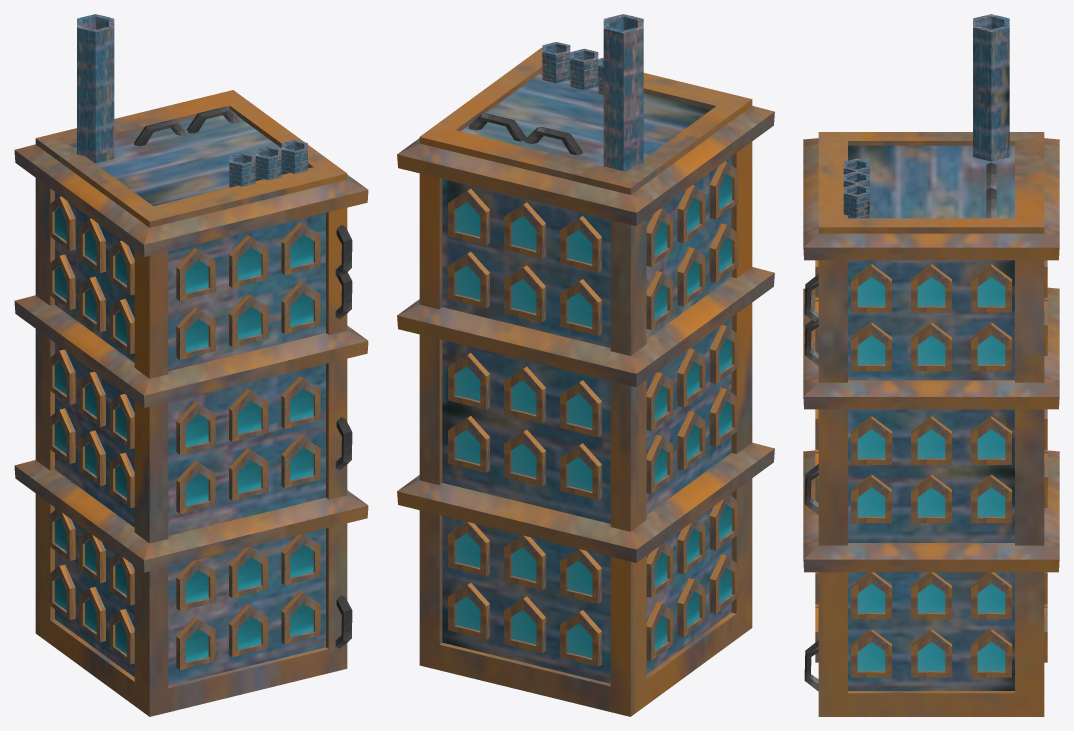
File: buildvar3.fbx
3 views of the same model, side by side, from view 1: azimuth 30°, elevation 25°; view 2: azimuth 150°, elevation 25°; view 3: azimuth 270°, elevation 25° (orthographic). The views are drawn at different scales.
Parts seen in each view (by area): view 1: pCube1, pCylinder13, pCylinder12, pCylinder20, pCylinder19, pCylinder18, pCylinder15, pCylinder16, pCylinder17, pCylinder14, pTorus6, pTorus5 (+3 smaller); view 2: pCube1, pCylinder13, pCylinder12, pCylinder19, pCylinder20, pCylinder18, pCylinder15, pCylinder14, pCylinder16, pTorus2, pTorus1; view 3: pCube1, pCylinder12, pCylinder18, pCylinder20, pCylinder19, pCylinder15, pCylinder13, pCylinder14, pTorus6, pTorus5.
Part boxes in pixels (x1,y1,x2,y2): pCube1: [35, 90, 347, 716]; pCylinder13: [176, 222, 320, 669]; pCylinder12: [49, 196, 134, 664]; pCylinder20: [14, 460, 368, 572]; pCylinder19: [14, 295, 368, 407]; pCylinder18: [14, 144, 368, 256]; pCylinder15: [77, 14, 114, 163]; pCylinder16: [255, 146, 281, 180]; pCylinder17: [229, 152, 255, 187]; pCylinder14: [281, 140, 307, 174]; pTorus6: [335, 595, 352, 648]; pTorus5: [335, 417, 352, 469]; pCube1: [419, 48, 752, 716]; pCylinder13: [448, 188, 601, 666]; pCylinder12: [646, 161, 737, 660]; pCylinder19: [397, 267, 774, 387]; pCylinder20: [397, 442, 774, 562]; pCylinder18: [397, 106, 774, 225]; pCylinder15: [603, 14, 643, 171]; pCylinder14: [542, 42, 570, 83]; pCylinder16: [570, 48, 598, 89]; pTorus2: [468, 113, 526, 141]; pTorus1: [524, 127, 582, 154]; pCube1: [818, 132, 1044, 716]; pCylinder12: [851, 264, 1011, 677]; pCylinder18: [803, 138, 1059, 260]; pCylinder20: [803, 450, 1059, 572]; pCylinder19: [803, 287, 1059, 409]; pCylinder15: [973, 14, 1009, 161]; pCylinder13: [815, 260, 1047, 662]; pCylinder14: [843, 184, 869, 218]; pTorus6: [804, 640, 818, 691]; pTorus5: [804, 464, 818, 514].
Bounding box in the file's own units: 17.12 × 45.31 × 17.12.
